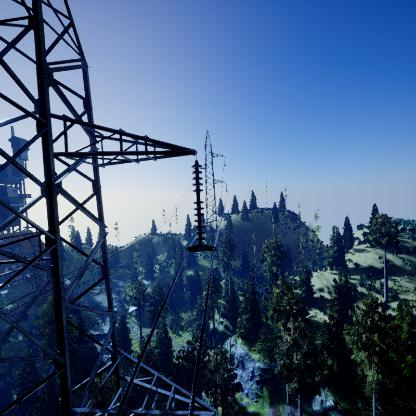insulator: (189, 160, 209, 245)
